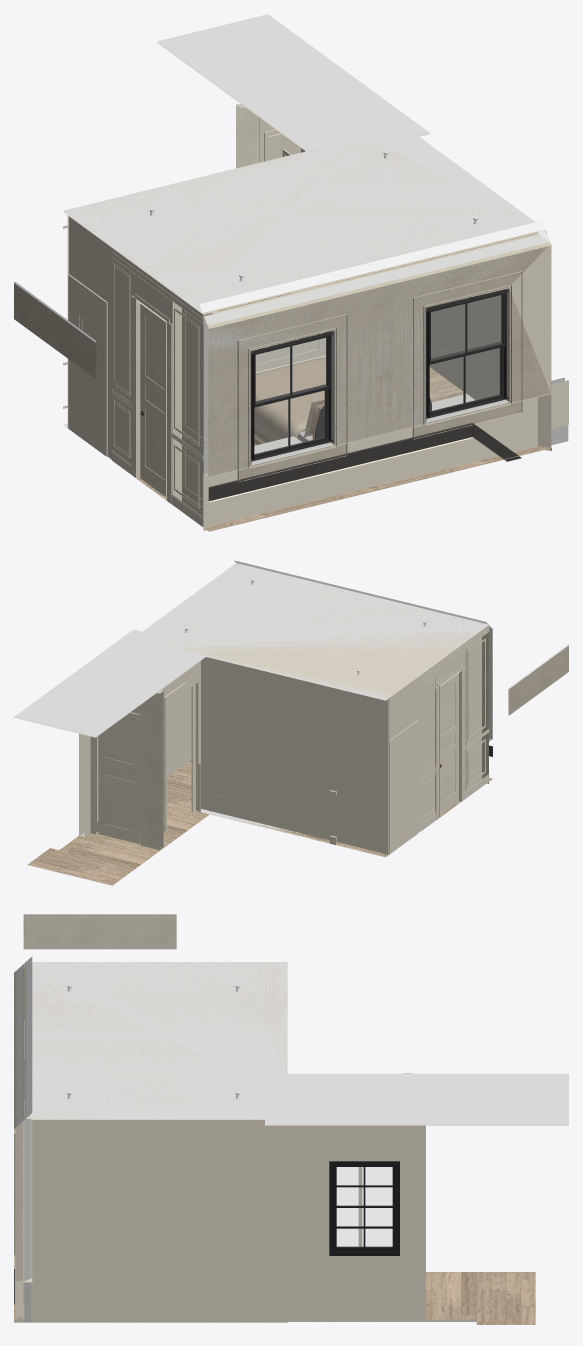
The model's file is blue-bedroom-3a7822552eca.glb.
3 renders of one model, top to bottom at view 1: azimuth 30°, elevation 25°; view 2: azimuth 150°, elevation 25°; view 3: azimuth 270°, elevation 25°, orthographic. The views are drawn at different scales.
Visible parts, largest first — view 1: blue-bedroom-9d91b47435c6fb33, blue-bedroom-bddaf205afbd60c0, blue-bedroom-e8793759323e04f0, blue-bedroom-look-9d91b47435c6fb33, blue-bedroom-df3e1f21720b0c39, blue-bedroom-2f7d8eff34a2c180, blue-bedroom-ed5fdcd3ee9c0dd5, blue-bedroom-3c3de67e8dd93323, blue-bedroom-649b3532e9781727, blue-bedroom-64753ebcb3824a84, blue-bedroom-746250f96522f643, blue-bedroom-ead09a0b3f9e3bd9 (+16 smaller); view 2: blue-bedroom-6e269356ae8bfd70, blue-bedroom-9d91b47435c6fb33, blue-bedroom-e8793759323e04f0, blue-bedroom-look-9d91b47435c6fb33, blue-bedroom-ed5fdcd3ee9c0dd5, blue-bedroom-look-dcc0092055abeaa8, blue-bedroom-look-2575515a05775d9e, blue-bedroom-look-eb02897c2e79e2b1, blue-bedroom-ead09a0b3f9e3bd9, blue-bedroom-3e649b0d114ae387, blue-bedroom-bf159a19de53e60e, blue-bedroom-746250f96522f643 (+13 smaller); view 3: blue-bedroom-746250f96522f643, blue-bedroom-9d91b47435c6fb33, blue-bedroom-look-746250f96522f643, blue-bedroom-e8793759323e04f0, blue-bedroom-look-9d91b47435c6fb33, blue-bedroom-look-5035c6783c6505b3, blue-bedroom-look-2575515a05775d9e, blue-bedroom-look-3a4d9d62ecd7be1c, blue-bedroom-0a6e1f8a567f4490, blue-bedroom-64753ebcb3824a84, blue-bedroom-2575515a05775d9e, blue-bedroom-49f6d498b24b79cd.
Part boxes in pixels (bbox=[...]): blue-bedroom-9d91b47435c6fb33: bbox=[63, 127, 538, 314]; blue-bedroom-bddaf205afbd60c0: bbox=[207, 242, 550, 476]; blue-bedroom-e8793759323e04f0: bbox=[64, 138, 545, 312]; blue-bedroom-look-9d91b47435c6fb33: bbox=[157, 14, 429, 151]; blue-bedroom-df3e1f21720b0c39: bbox=[208, 243, 551, 475]; blue-bedroom-2f7d8eff34a2c180: bbox=[203, 393, 551, 530]; blue-bedroom-ed5fdcd3ee9c0dd5: bbox=[67, 215, 181, 500]; blue-bedroom-3c3de67e8dd93323: bbox=[251, 330, 333, 461]; blue-bedroom-649b3532e9781727: bbox=[426, 289, 509, 418]; blue-bedroom-64753ebcb3824a84: bbox=[204, 234, 548, 476]; blue-bedroom-746250f96522f643: bbox=[398, 234, 532, 399]; blue-bedroom-ead09a0b3f9e3bd9: bbox=[68, 274, 107, 456]; blue-bedroom-6e269356ae8bfd70: bbox=[200, 656, 389, 855]; blue-bedroom-9d91b47435c6fb33: bbox=[134, 564, 488, 700]; blue-bedroom-e8793759323e04f0: bbox=[161, 560, 488, 698]; blue-bedroom-look-9d91b47435c6fb33: bbox=[14, 629, 205, 737]; blue-bedroom-ed5fdcd3ee9c0dd5: bbox=[382, 641, 465, 854]; blue-bedroom-look-dcc0092055abeaa8: bbox=[98, 712, 140, 844]; blue-bedroom-look-2575515a05775d9e: bbox=[27, 803, 209, 885]; blue-bedroom-look-eb02897c2e79e2b1: bbox=[90, 690, 163, 850]; blue-bedroom-ead09a0b3f9e3bd9: bbox=[389, 720, 417, 854]; blue-bedroom-3e649b0d114ae387: bbox=[465, 625, 488, 790]; blue-bedroom-bf159a19de53e60e: bbox=[440, 673, 458, 814]; blue-bedroom-746250f96522f643: bbox=[161, 672, 191, 779]; blue-bedroom-746250f96522f643: bbox=[32, 1119, 287, 1319]; blue-bedroom-9d91b47435c6fb33: bbox=[24, 962, 287, 1119]; blue-bedroom-look-746250f96522f643: bbox=[287, 1125, 425, 1319]; blue-bedroom-e8793759323e04f0: bbox=[25, 956, 287, 1118]; blue-bedroom-look-9d91b47435c6fb33: bbox=[265, 1073, 568, 1125]; blue-bedroom-look-5035c6783c6505b3: bbox=[329, 1161, 399, 1255]; blue-bedroom-look-2575515a05775d9e: bbox=[287, 1272, 535, 1324]; blue-bedroom-look-3a4d9d62ecd7be1c: bbox=[23, 914, 176, 949]; blue-bedroom-0a6e1f8a567f4490: bbox=[15, 1121, 22, 1281]; blue-bedroom-64753ebcb3824a84: bbox=[16, 964, 23, 1126]; blue-bedroom-2575515a05775d9e: bbox=[14, 1269, 287, 1322]; blue-bedroom-49f6d498b24b79cd: bbox=[24, 1118, 30, 1281].
Size of the model in its own units: 6.73 by 3.04 by 7.3.
34 materials, 5 textured.
